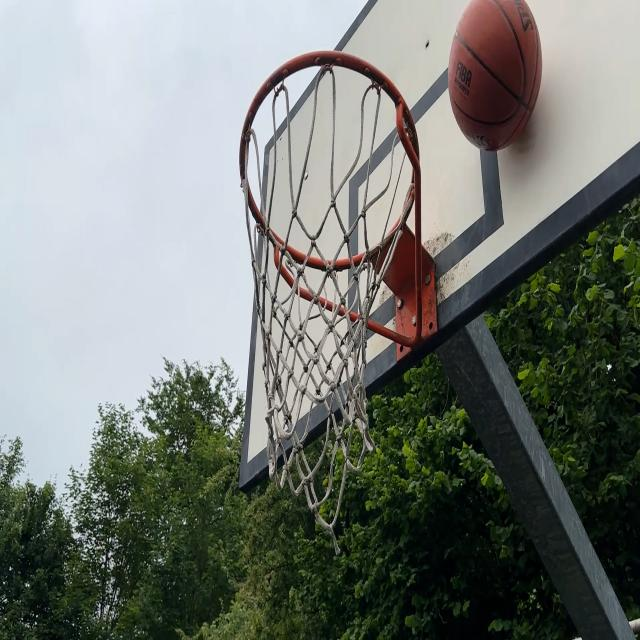rebound_hit: (447, 0, 544, 151)
